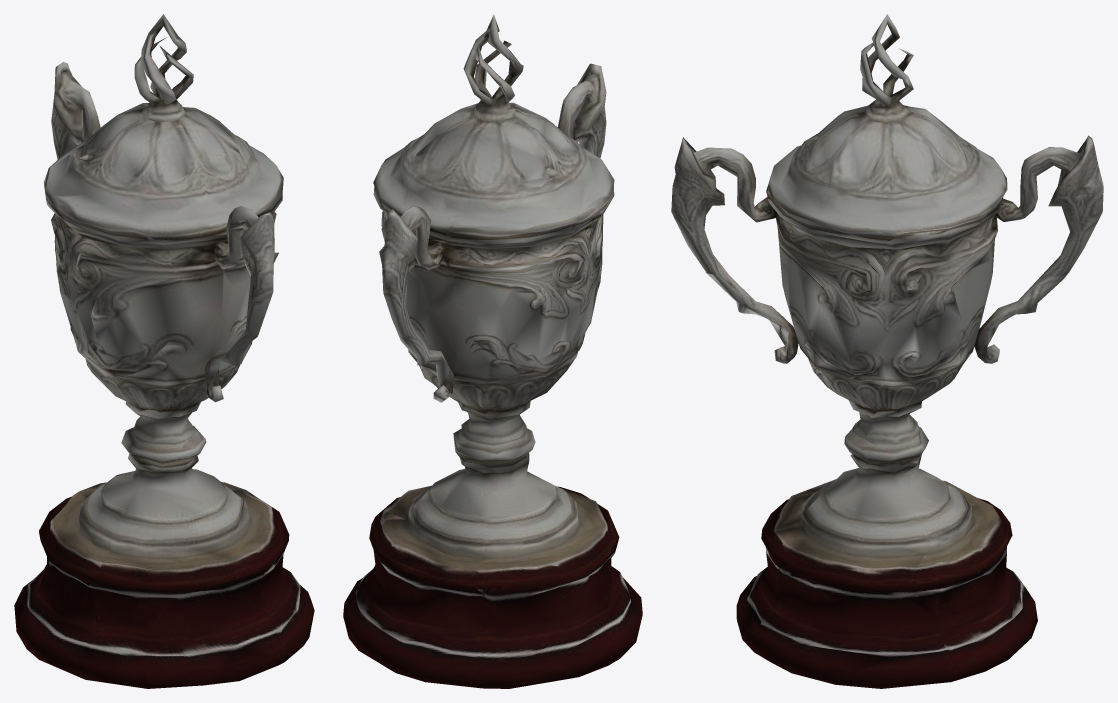
Rendered from pokal_silber.glb.
3 renders of one model, left to right at view 1: azimuth 30°, elevation 25°; view 2: azimuth 150°, elevation 25°; view 3: azimuth 270°, elevation 25°, orthographic.
Visible parts, largest first — view 1: tripo_node_ef88a58e-89e7-47fb-9658-4db637b48df0; view 2: tripo_node_ef88a58e-89e7-47fb-9658-4db637b48df0; view 3: tripo_node_ef88a58e-89e7-47fb-9658-4db637b48df0.
Boxes of the visible parts, bbox=[...] form: tripo_node_ef88a58e-89e7-47fb-9658-4db637b48df0: bbox=[14, 14, 314, 688]; tripo_node_ef88a58e-89e7-47fb-9658-4db637b48df0: bbox=[343, 14, 642, 688]; tripo_node_ef88a58e-89e7-47fb-9658-4db637b48df0: bbox=[671, 14, 1103, 688].
Bounding box in the file's own units: 0.4448 × 1 × 0.6374.
Materials: 1 (1 with a texture image).
